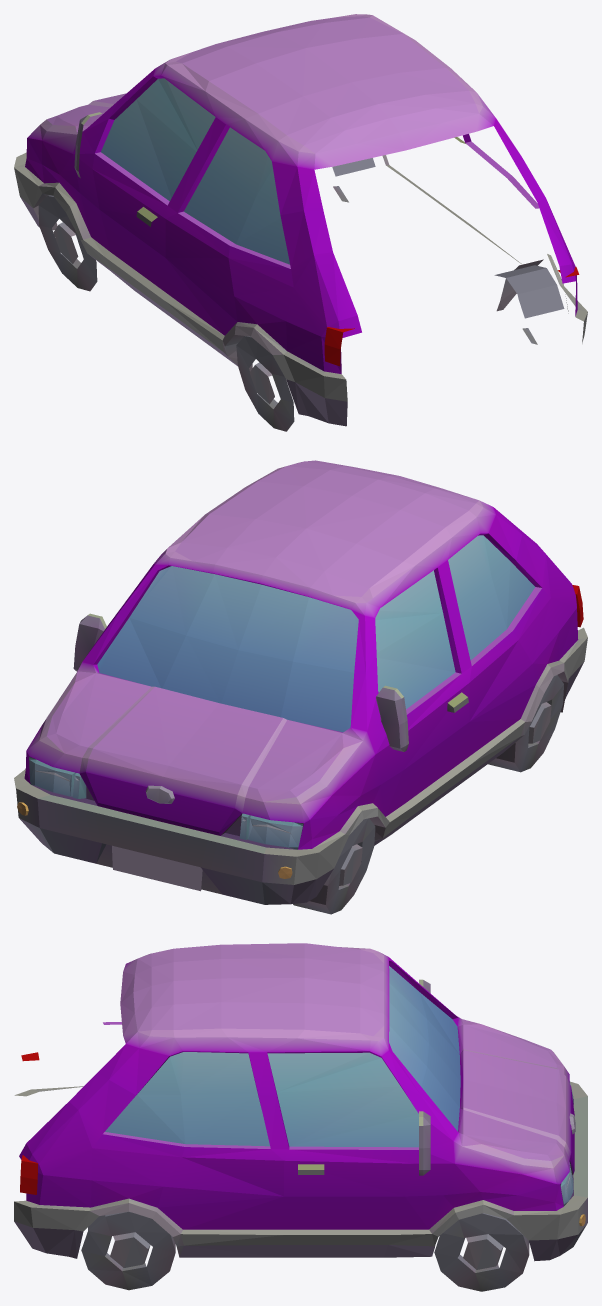
File: city_single2_car01.glb
3 renders of one model, top to bottom at view 1: azimuth 30°, elevation 25°; view 2: azimuth 150°, elevation 25°; view 3: azimuth 270°, elevation 25°, orthographic. The views are drawn at different scales.
Parts seen in each view (by area): view 1: city_single2_car01; view 2: city_single2_car01; view 3: city_single2_car01.
Part boxes in pixels (left/top/right/bottom): city_single2_car01: left=14, top=14, right=587, bottom=431; city_single2_car01: left=14, top=460, right=587, bottom=914; city_single2_car01: left=14, top=943, right=587, bottom=1291.
Size of the model in its own units: 1.09 by 0.8768 by 1.79.
